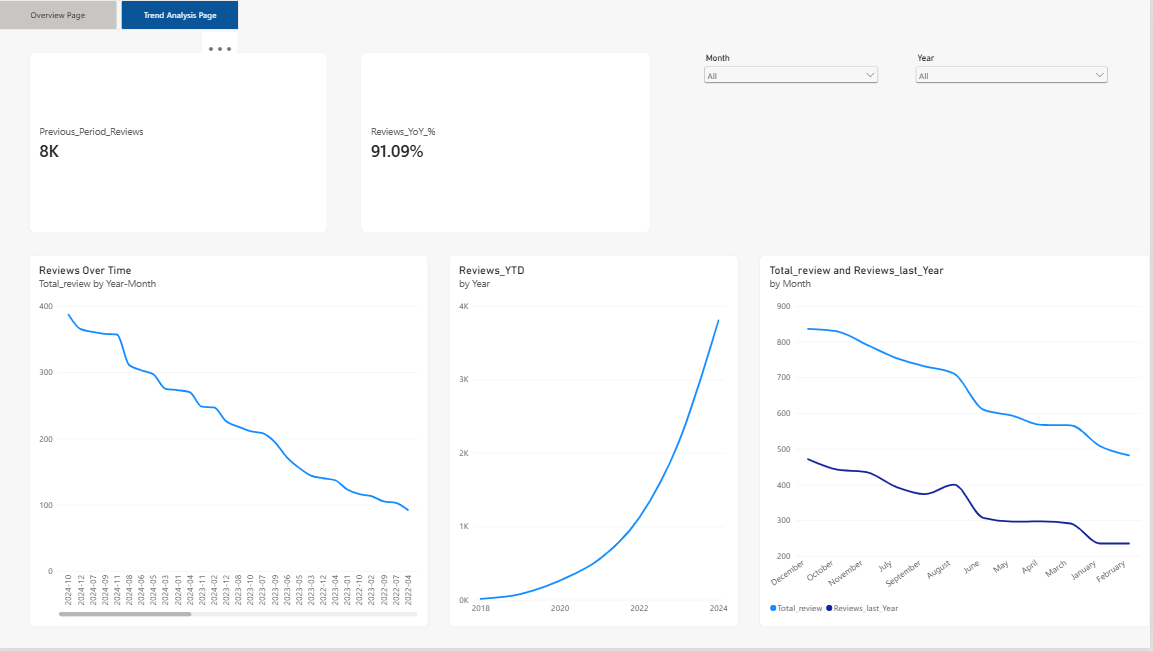

What the dashboard file says about the page in this screenshot:
{"tool":"powerbi","page":{"name":"Trend Analysis Page","canvas":[1920,1080],"ordinal":1},"visuals":[{"type":"lineChart","title":"Reviews Over Time","fields":{"Category":["Dim_Date.Year-Month"],"Y":["reviews triple10.Total_review"]},"box":[50,425,665,620],"z":0},{"type":"lineChart","fields":{"Category":["Dim_Date.Month"],"Y":["reviews triple10.Total_review","Dim_Date.Reviews_last_Year"]},"box":[1267.5,425,652.5,620],"z":1},{"type":"lineChart","fields":{"Category":["Dim_Date.Date.Variation.Date Hierarchy.Year","Dim_Date.Date.Variation.Date Hierarchy.Quarter","Dim_Date.Date.Variation.Date Hierarchy.Month","Dim_Date.Date.Variation.Date Hierarchy.Day"],"Y":["Dim_Date.Reviews_YTD"]},"box":[750,425,482.5,620],"z":2},{"type":"slicer","fields":{"Values":["Dim_Date.Year"]},"box":[1522.5,87.5,330,300],"z":3},{"type":"slicer","fields":{"Values":["Dim_Date.Month"]},"box":[1170,87.5,300,300],"z":4},{"type":"cardVisual","fields":{"Data":["Dim_Date.Previous_Period_Reviews"]},"box":[50,87.5,497.5,300],"z":5},{"type":"cardVisual","fields":{"Data":["Dim_Date.Reviews_YoY_%"]},"box":[602.5,87.5,483,300],"z":6},{"type":"pageNavigator","box":[0,0,400,50],"z":7}]}

Visuals, with their boxes in screenshot pixels (x1, y1, x2, y2), scaled from the page's 1920x1080 canvas onto the 1153x651 screenshot:
"Reviews Over Time" lineChart: select_region(30, 256, 429, 630)
lineChart - Dim_Date.Month x reviews triple10.Total_review: select_region(761, 256, 1152, 630)
lineChart - Dim_Date.Date.Variation.Date Hierarchy.Year x Dim_Date.Date.Variation.Date Hierarchy.Quarter: select_region(450, 256, 740, 630)
slicer - Dim_Date.Year: select_region(914, 53, 1112, 234)
slicer - Dim_Date.Month: select_region(703, 53, 883, 234)
cardVisual - Dim_Date.Previous_Period_Reviews: select_region(30, 53, 329, 234)
cardVisual - Dim_Date.Reviews_YoY_%: select_region(362, 53, 652, 234)
pageNavigator: select_region(0, 0, 240, 30)
